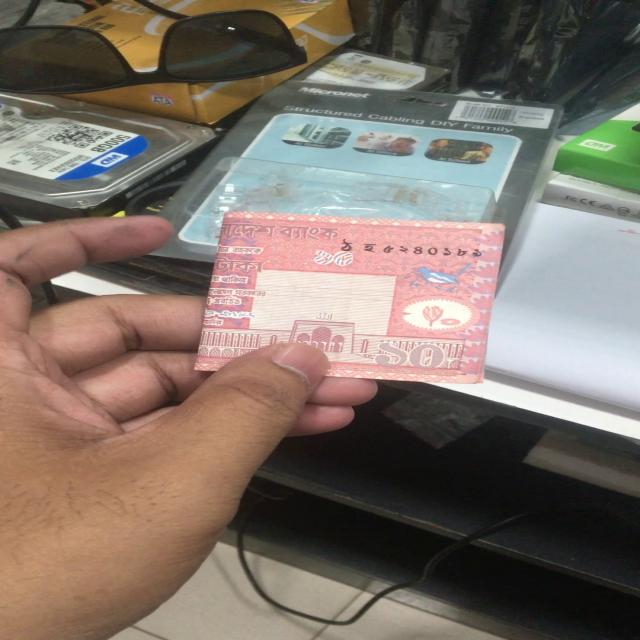Taka: (209, 209, 489, 381)
